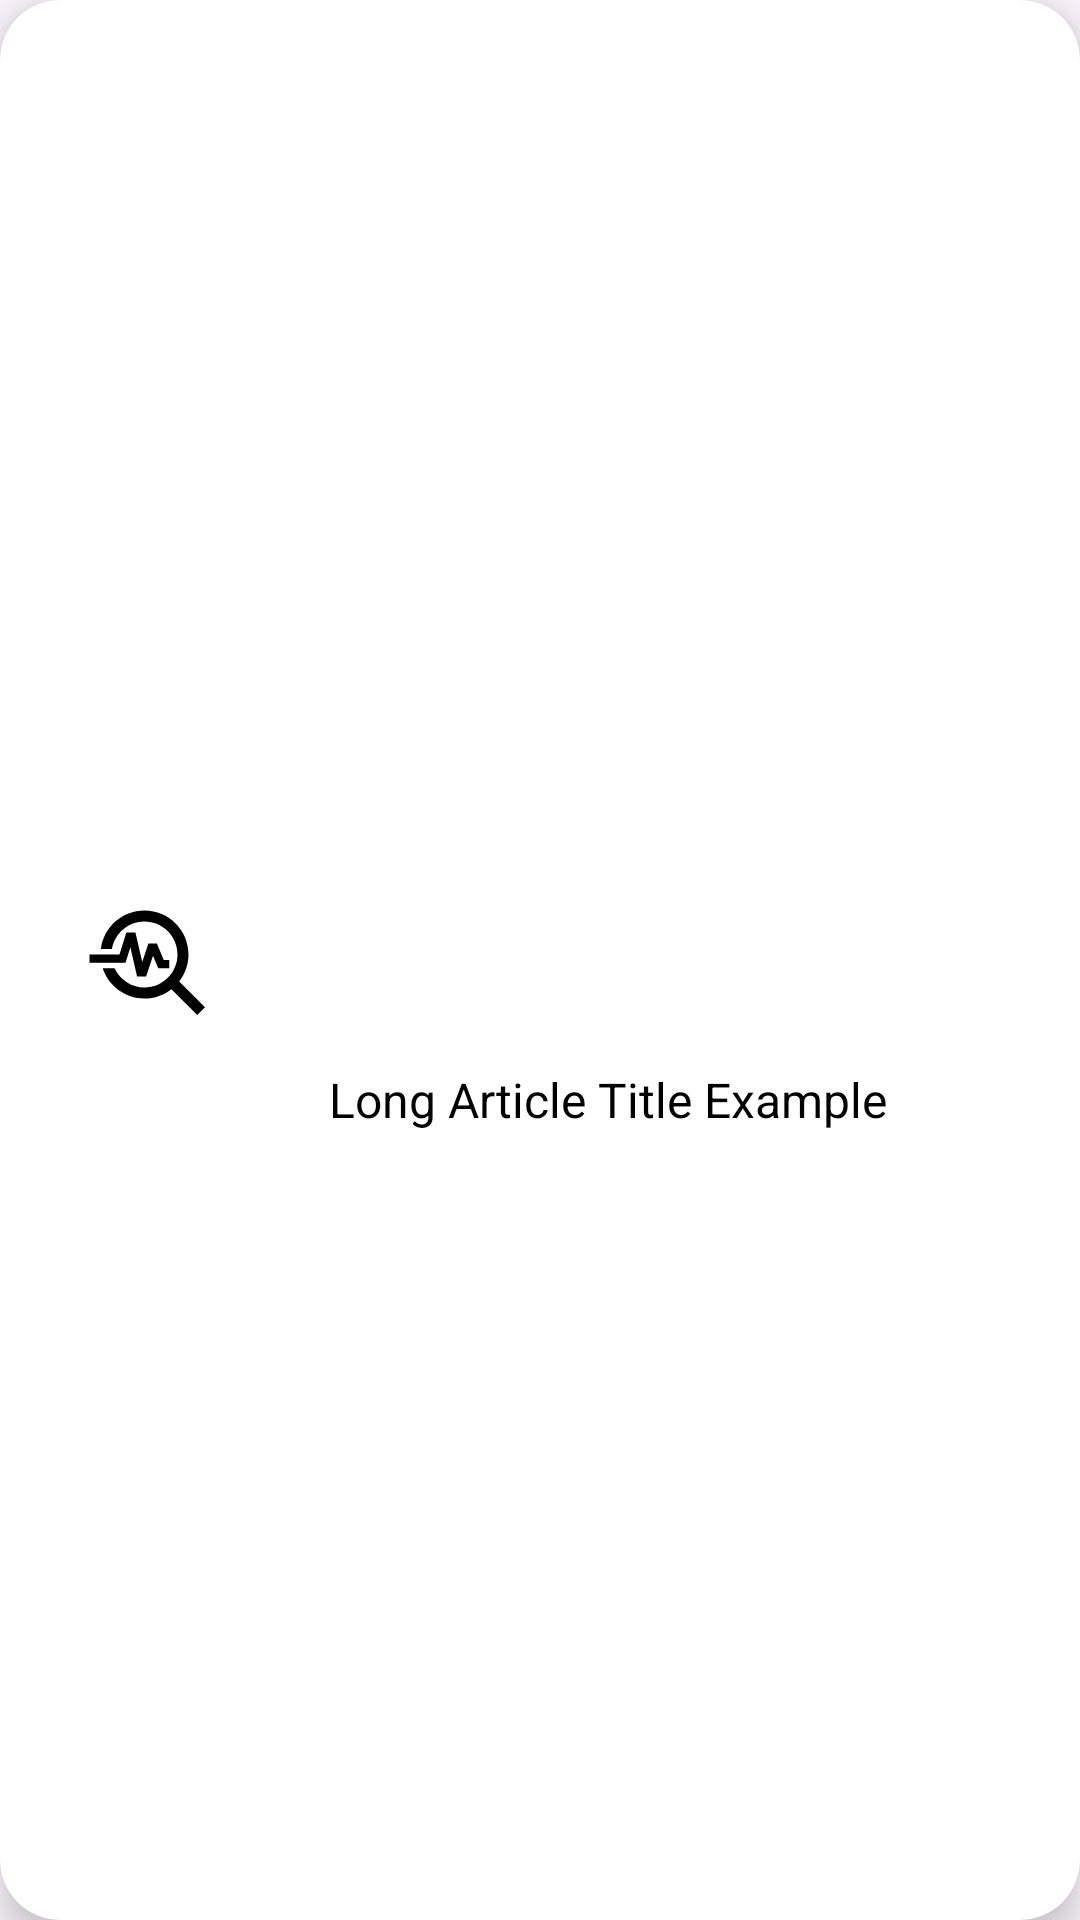

Icon click points for this 1080x1920 phone screenshot, format [x,y]:
troubleshoot: [147,962]
